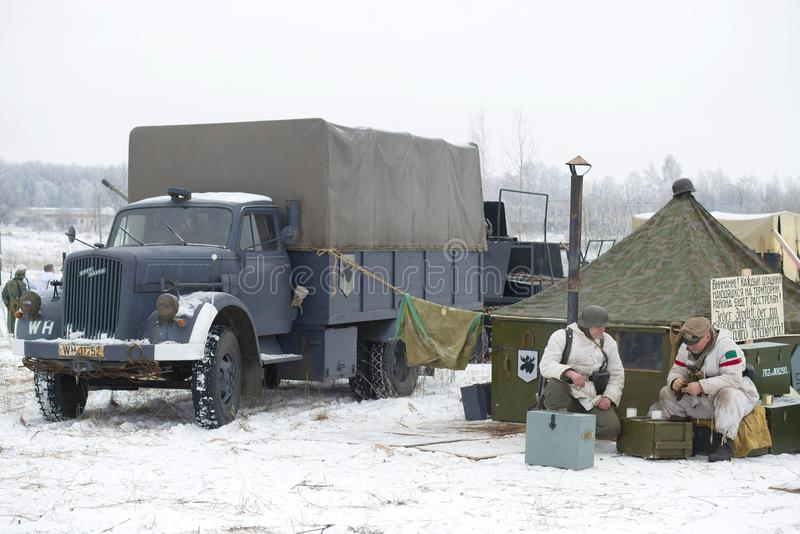camion: (18, 128, 469, 384)
